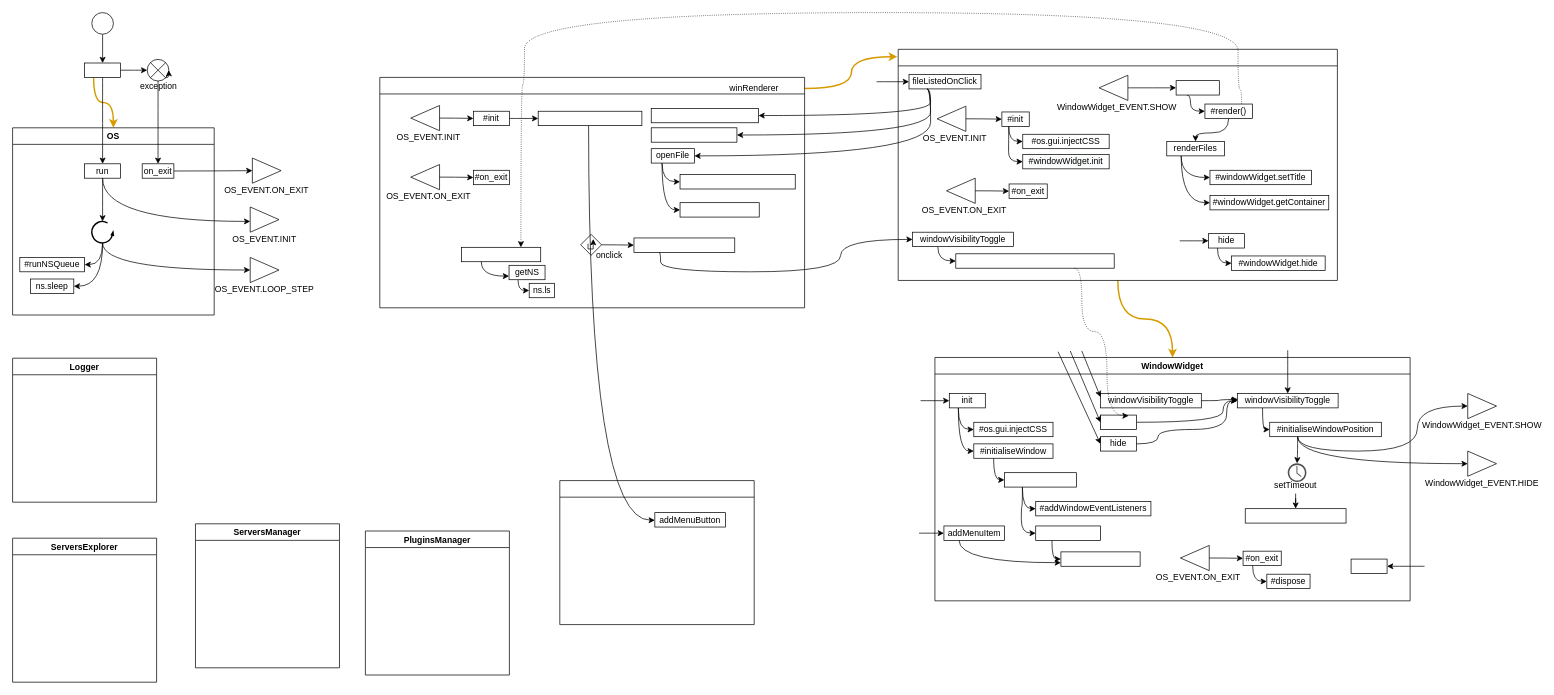
This 1554x695 diagram has some shape labels left out. The box of each missing label's shape, as (x1, y1, x2, y2) in pixels:
#createWindow: (1004, 472, 1076, 487)
#injectFileExplorerButton: (537, 111, 642, 126)
#onShow: (1175, 80, 1219, 95)
#os.terminal.inputToTerminal: (679, 174, 795, 189)
#readServerFiles: (461, 247, 541, 262)
#renderMenu: (1035, 525, 1101, 540)
#renderMenuItem: (1060, 551, 1140, 566)
#updateWindowPosition: (1245, 508, 1346, 523)
#windowVisibilityToggle: (633, 237, 735, 252)
#windowWidget.windowVisibilityToggle: (955, 253, 1114, 268)
#winRenderer.hide: (679, 202, 759, 217)
changeDirectory_oneUp: (651, 108, 759, 123)
changeDirectoryTo: (651, 127, 737, 142)
FilesExplorer: (379, 77, 805, 308)
FilesExplorerRenderer: (897, 49, 1337, 280)
GUI: (559, 480, 754, 625)
main: (84, 62, 121, 77)
setTitle: (1350, 558, 1387, 573)
show: (1100, 414, 1137, 429)
